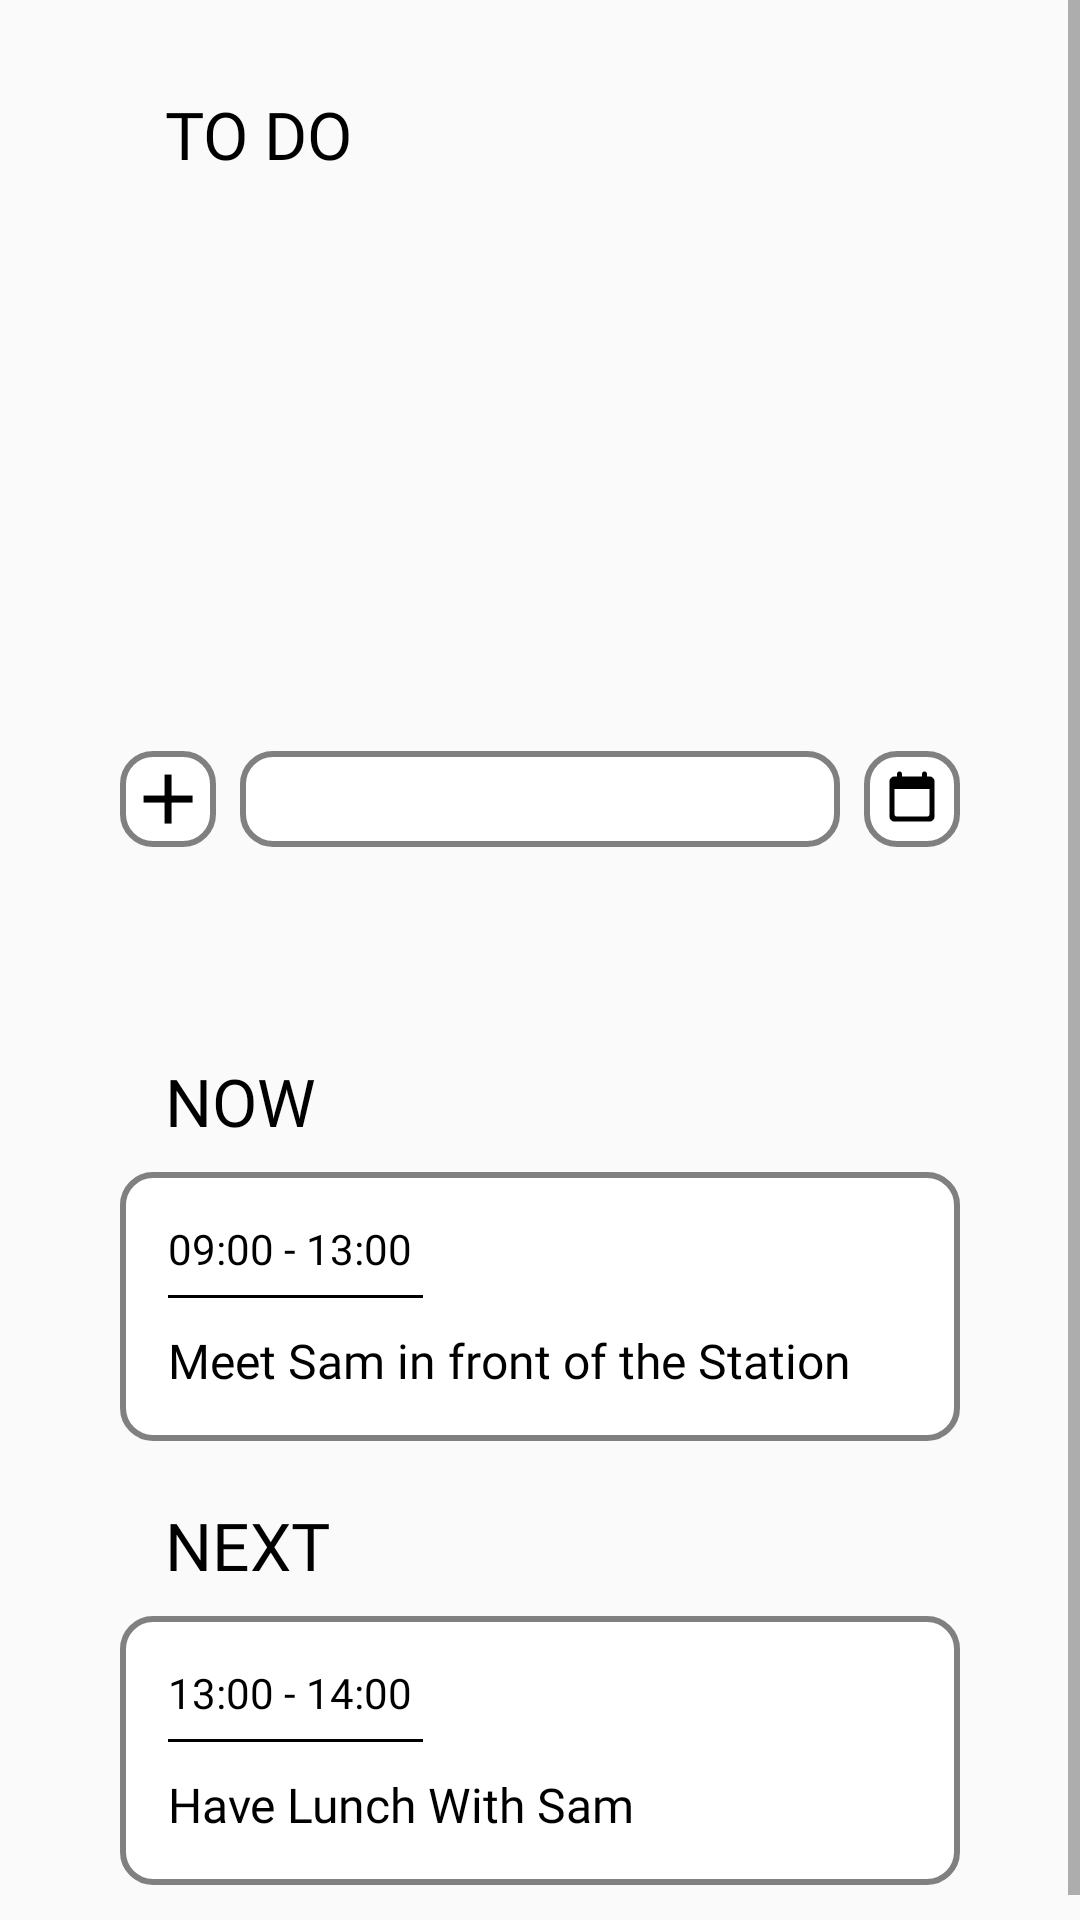

Point at icon controls on the screen. Image size 1080w x 1920h, points as (x,y).
add: (168,799)
calendar: (912,796)
